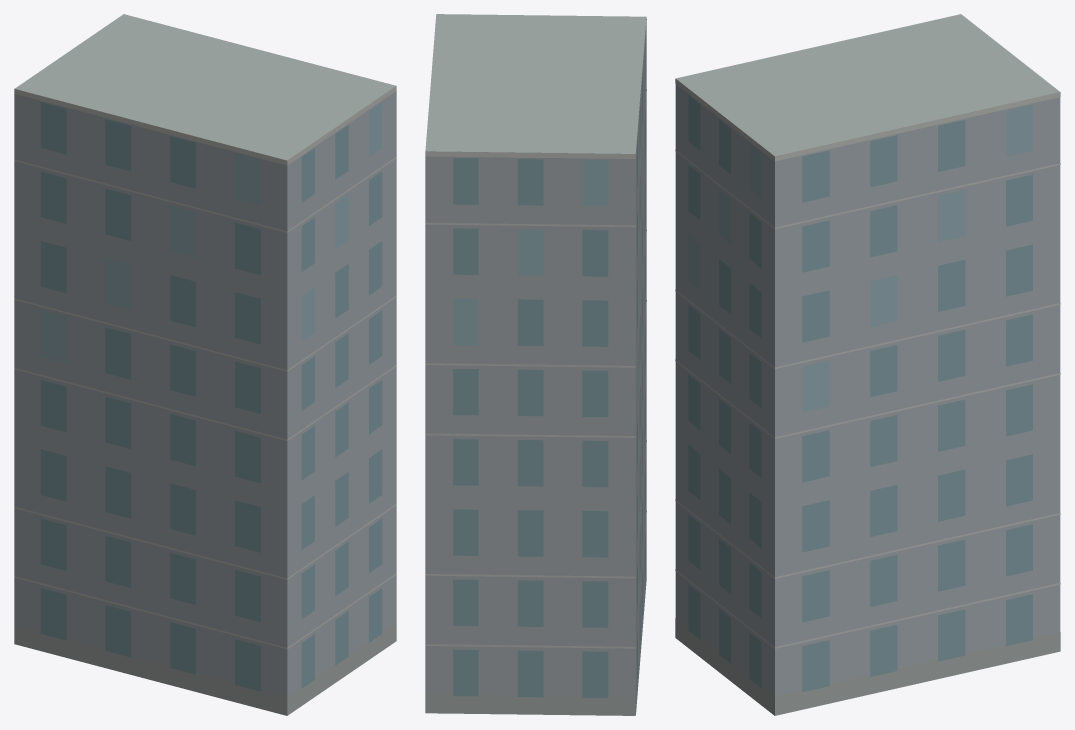
The model's file is survey-upis-32789623.glb.
3 views of the same model, side by side, from view 1: azimuth 30°, elevation 25°; view 2: azimuth 150°, elevation 25°; view 3: azimuth 270°, elevation 25° (orthographic).
Visible parts, largest first — view 1: survey-upis-32789623.tmp; view 2: survey-upis-32789623.tmp; view 3: survey-upis-32789623.tmp.
Boxes of the visible parts, bbox=[...] form: survey-upis-32789623.tmp: bbox=[14, 14, 396, 715]; survey-upis-32789623.tmp: bbox=[425, 14, 646, 715]; survey-upis-32789623.tmp: bbox=[675, 14, 1060, 715].
Bounding box in the file's own units: 14.65 × 26.8 × 16.73.
